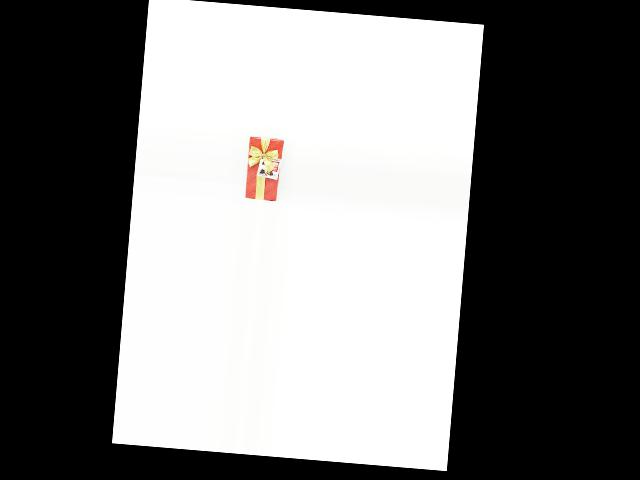chocolate: (241, 133, 283, 200)
